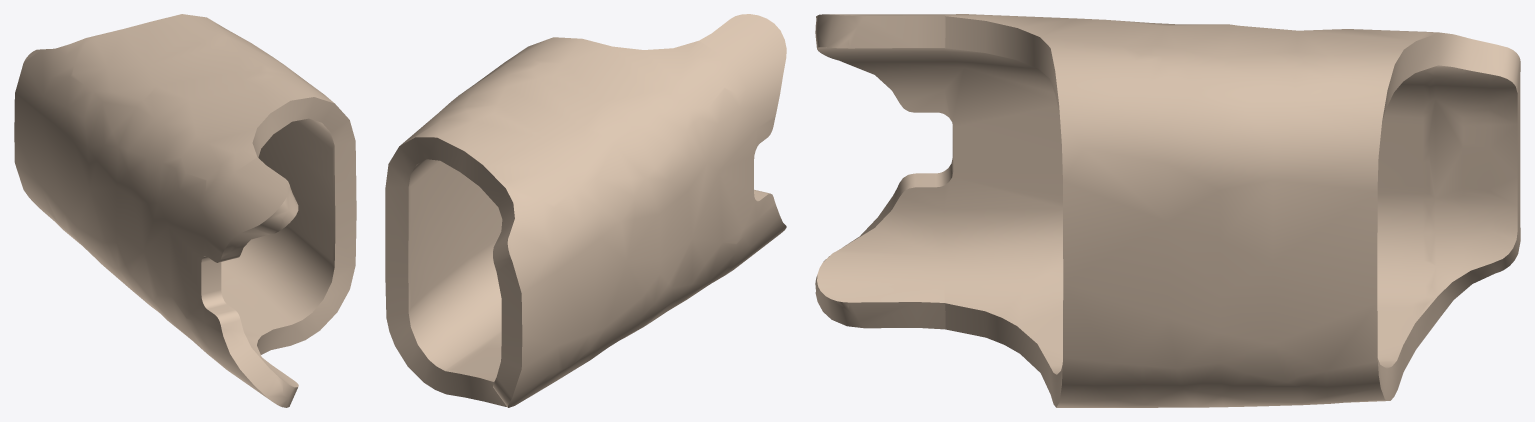
The model's file is r_hand_P_I_1.obj.
3 renders of one model, left to right at view 1: azimuth 30°, elevation 25°; view 2: azimuth 150°, elevation 25°; view 3: azimuth 270°, elevation 25°, orthographic. The views are drawn at different scales.
Bounding box in the file's own units: 19.67 × 23.24 × 42.84.
